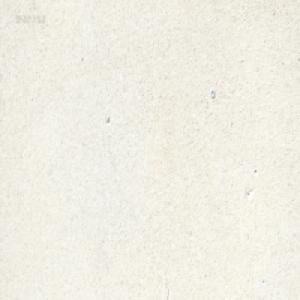Washer: (210, 88, 215, 98)
